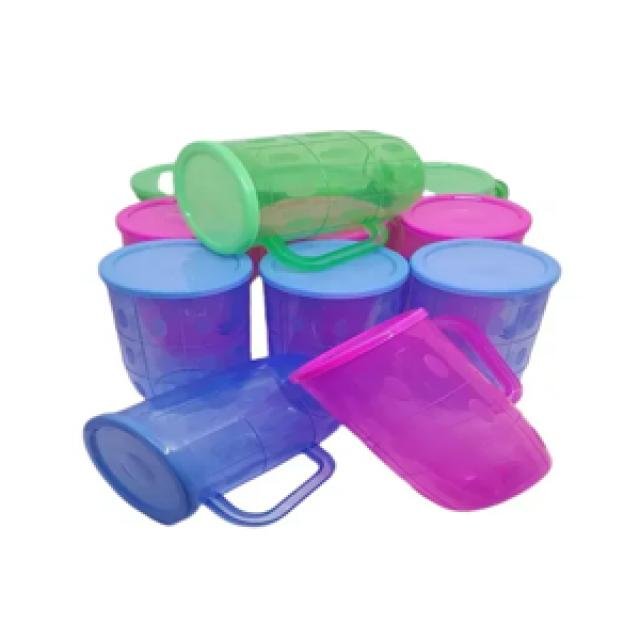plastic cup: (98, 150, 565, 408), (290, 305, 559, 518), (77, 348, 346, 527), (168, 124, 429, 269)
